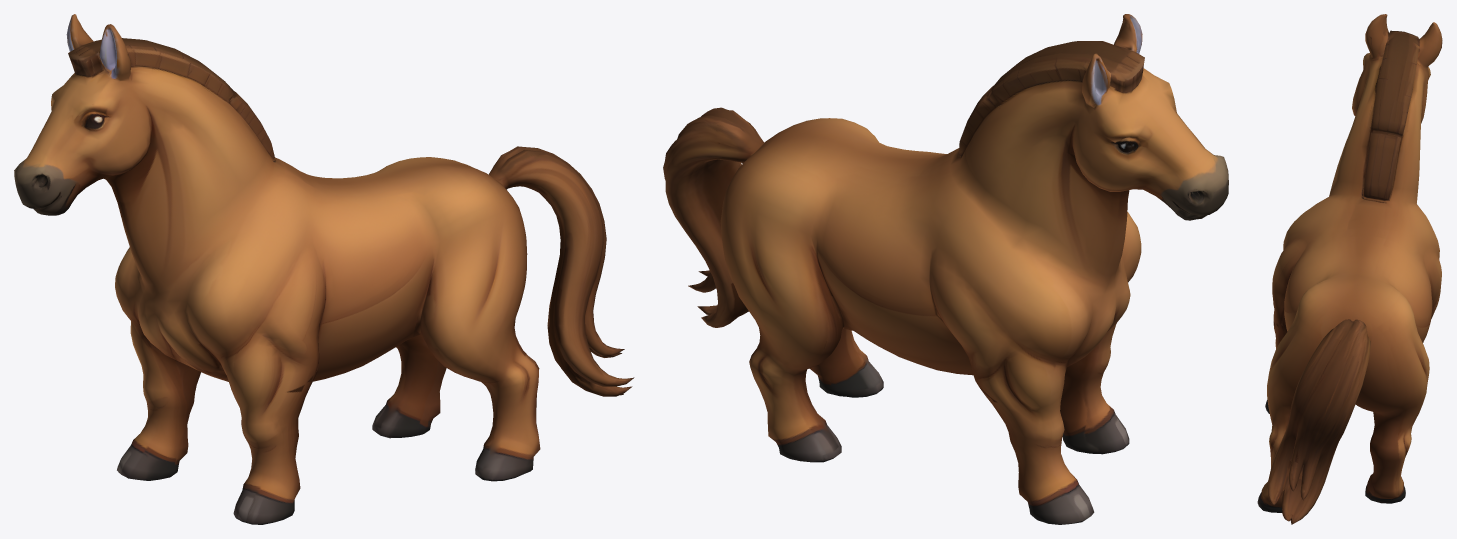
Rendered from caballo.fbx.
3 views of the same model, side by side, from view 1: azimuth 30°, elevation 25°; view 2: azimuth 150°, elevation 25°; view 3: azimuth 270°, elevation 25° (orthographic). The views are drawn at different scales.
Parts seen in each view (by area): view 1: mesh_rep_0_ori_repair_quad; view 2: mesh_rep_0_ori_repair_quad; view 3: mesh_rep_0_ori_repair_quad.
Boxes of the visible parts, box(x1,y1,x2,y2) form: mesh_rep_0_ori_repair_quad: box(14, 14, 634, 524); mesh_rep_0_ori_repair_quad: box(663, 14, 1228, 524); mesh_rep_0_ori_repair_quad: box(1257, 14, 1442, 524).
Size of the model in its own units: 98.53 by 81.28 by 36.81.
Materials: 1 (1 with a texture image).
